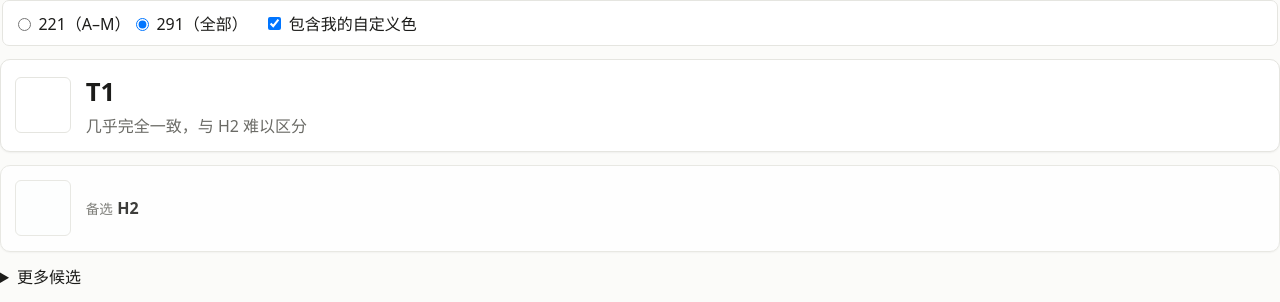
MatchPanel › restricting to 221 excludes the P/Q/R/T/Y/ZG series
Expected: the element with test id "match-headline" shows "T1", [86,74,115,109]
What coordinates should you click on to do the following:
click the radio button labelled "221（A–M）"
I would click on:
 (24, 24)
Its box is [18,18,31,31].
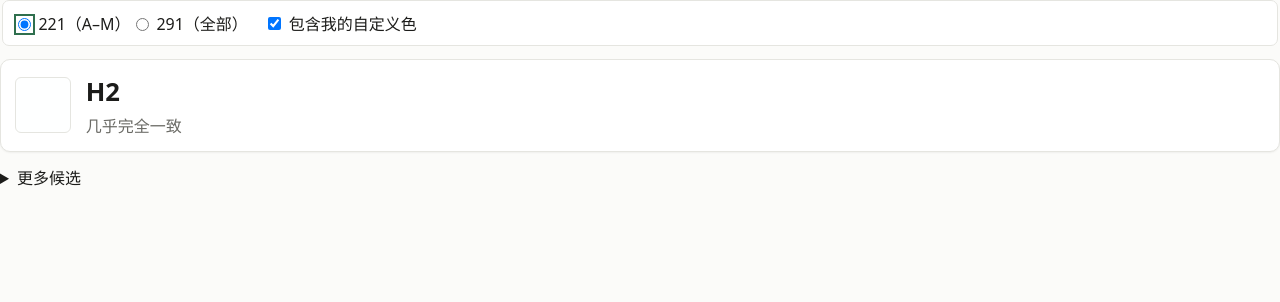
Expected: the element with test id "match-headline" no longer shows "T1", [0,59,1279,152]
